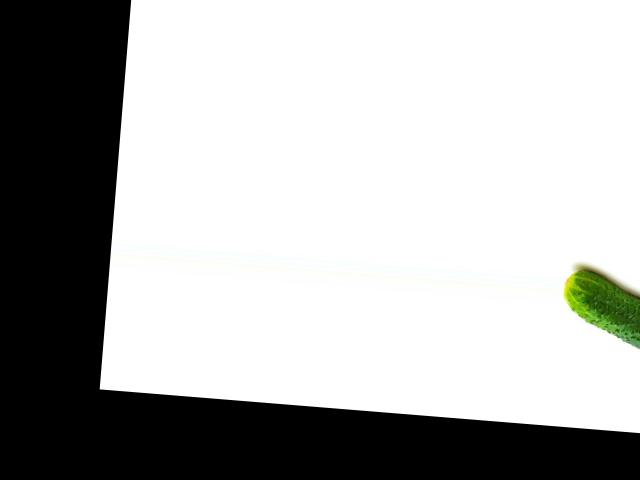cucumber: (559, 268, 640, 352)
